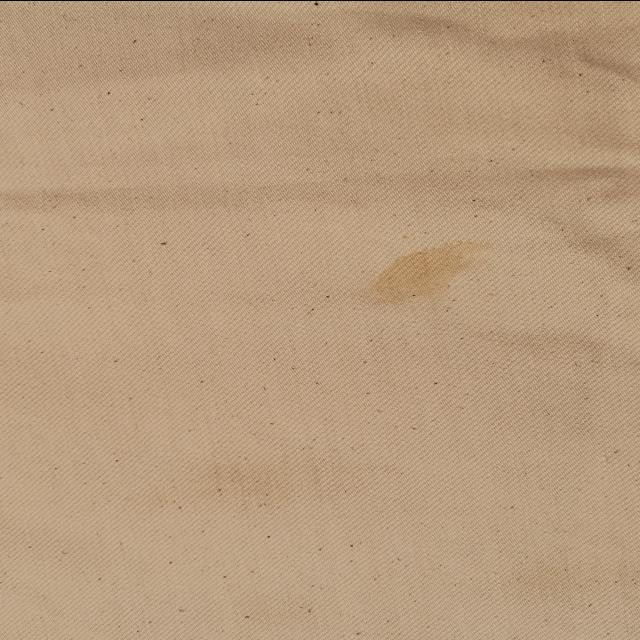taaaches: (348, 232, 486, 304)
